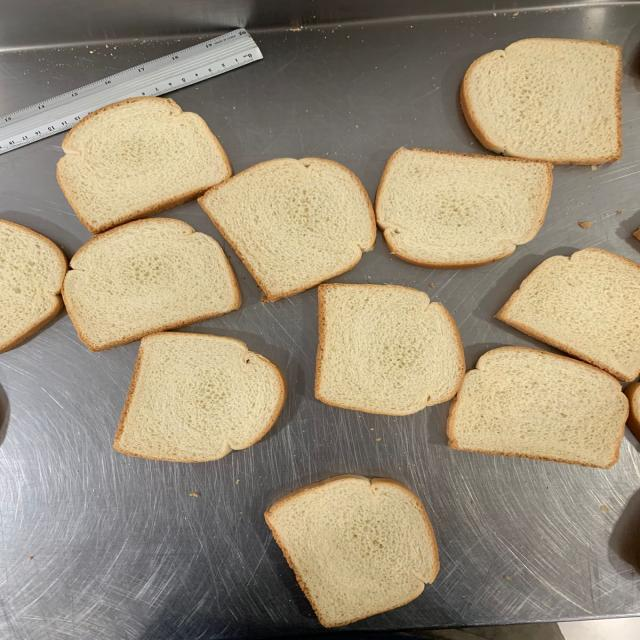sliced_bread: (265, 474, 439, 627), (198, 158, 378, 301), (57, 96, 231, 235), (64, 218, 242, 350), (112, 332, 288, 463), (447, 346, 630, 470), (377, 146, 552, 269), (460, 38, 623, 165), (315, 283, 465, 415)
